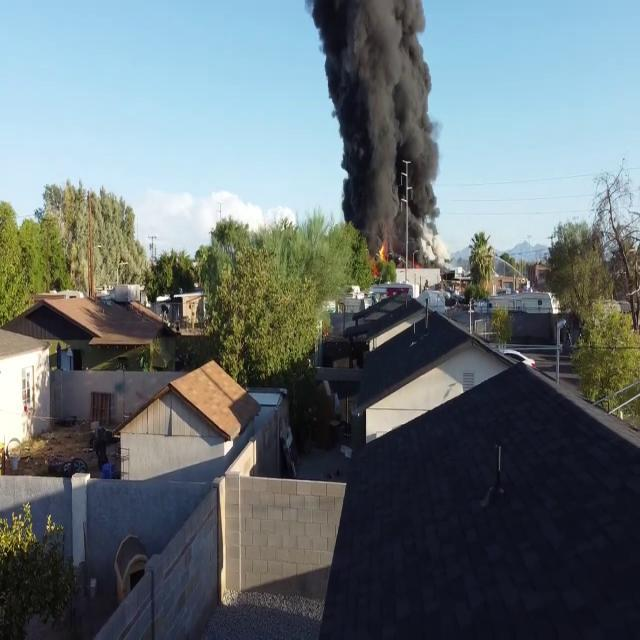Smoke: (312, 1, 443, 259)
